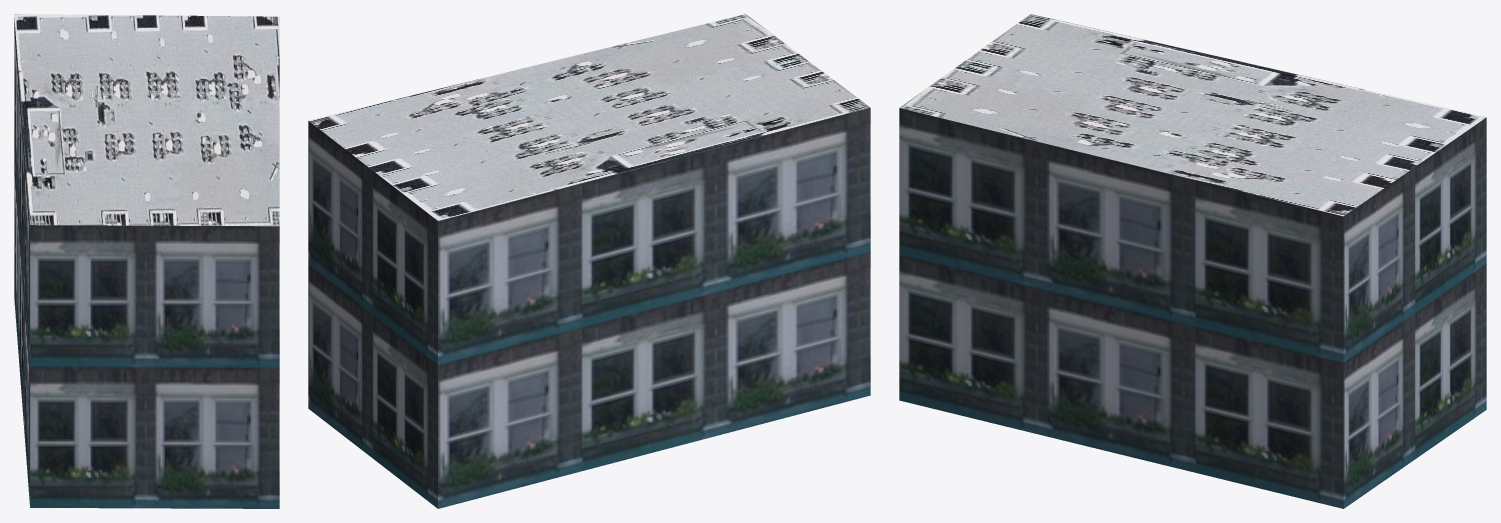
Rendered from ResTex__3057.fbx.
The picture shows the model from 3 angles, left to right: view 1: azimuth 30°, elevation 25°; view 2: azimuth 150°, elevation 25°; view 3: azimuth 270°, elevation 25°; orthographic projection. The views are drawn at different scales.
Visible parts, largest first — view 1: CityEngineMaterial_11_m, CityEngineMaterial_m; view 2: CityEngineMaterial_11_m, CityEngineMaterial_m; view 3: CityEngineMaterial_11_m, CityEngineMaterial_m.
Part boxes in pixels (bbox=[...]): CityEngineMaterial_11_m: bbox=[14, 18, 279, 508]; CityEngineMaterial_m: bbox=[14, 14, 279, 226]; CityEngineMaterial_11_m: bbox=[308, 107, 870, 508]; CityEngineMaterial_m: bbox=[309, 14, 869, 220]; CityEngineMaterial_11_m: bbox=[899, 108, 1486, 508]; CityEngineMaterial_m: bbox=[899, 14, 1486, 216].
Bounding box in the file's own units: 8.9 × 6 × 10.92.
2 materials, 2 textured.
